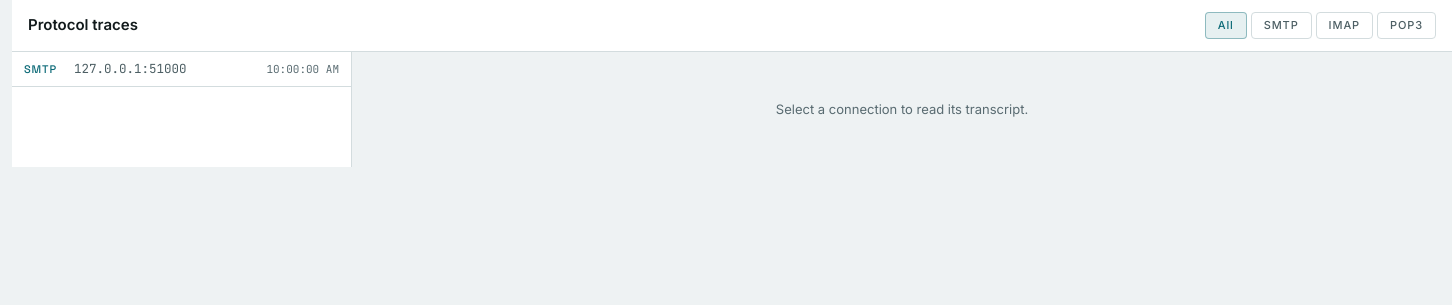
Test: TracesRoute › reports a truncated transcript so a cut-off trace is not read as a quiet one
The width and height of the screenshot is (1452, 305).
Click the text "127.0.0.1:51000": (130, 68) 74,60 -> 186,76
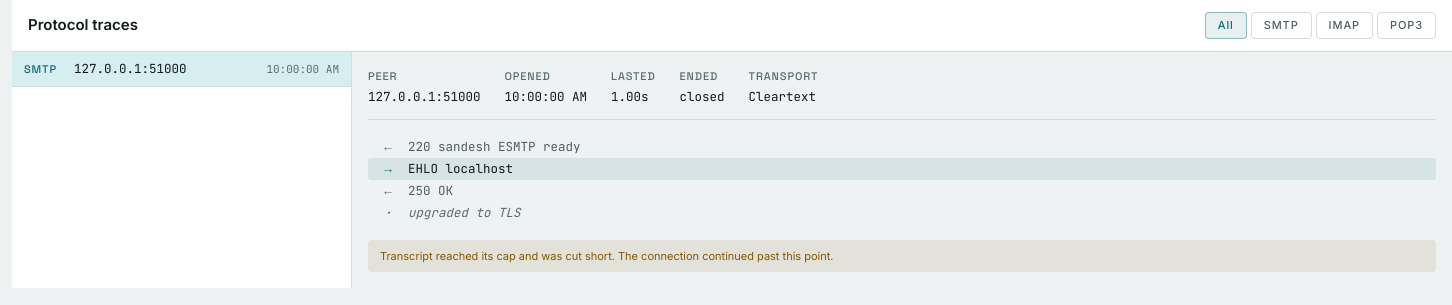
Check: the text "reached its cap" is shown, box 380,249 -> 834,263
